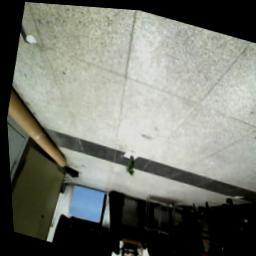herb: (123, 154, 136, 176)
